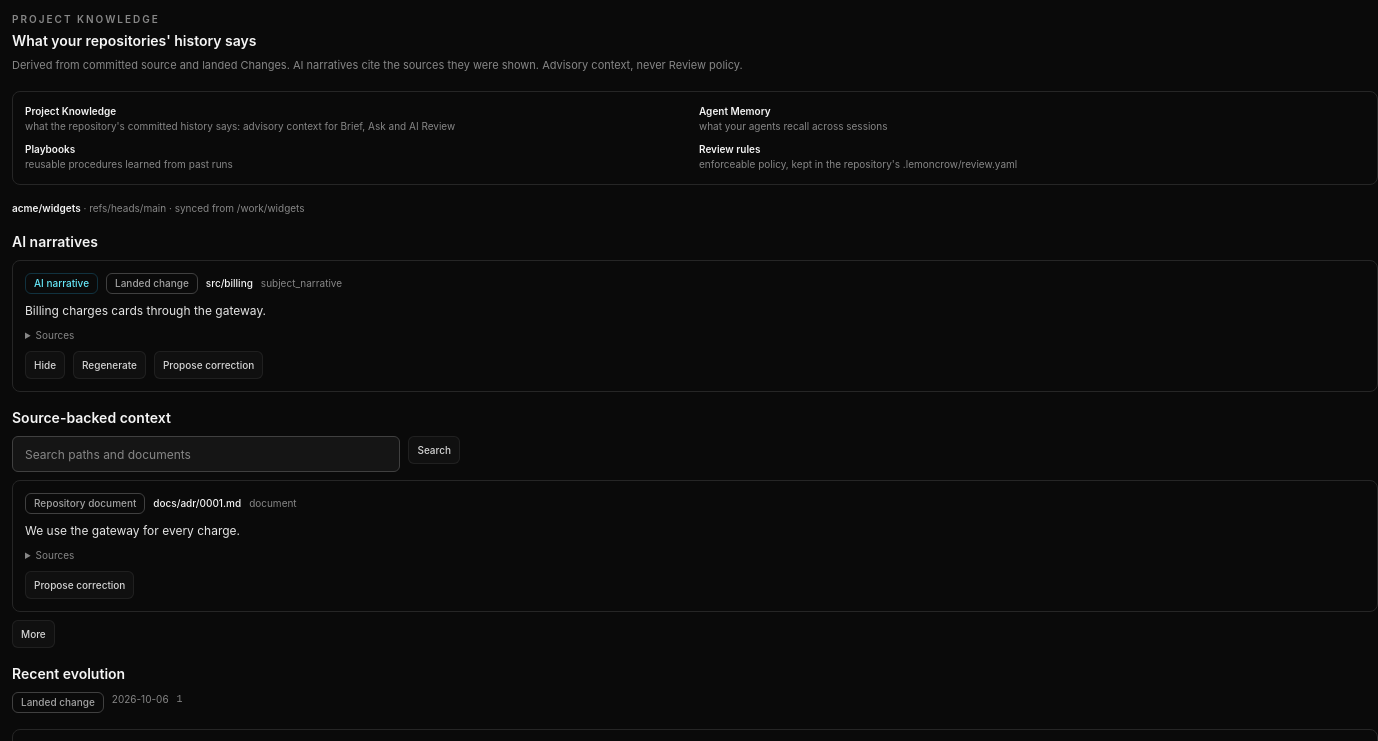
Test case: ProjectKnowledge › turns a correction into a patch and writes nothing itself
Expected: the text "Billing charges cards through the gateway." is shown, [25,303,266,318]
Click the button "Propose correction" below "src/billing" at (209, 365), box [154,351,263,379]
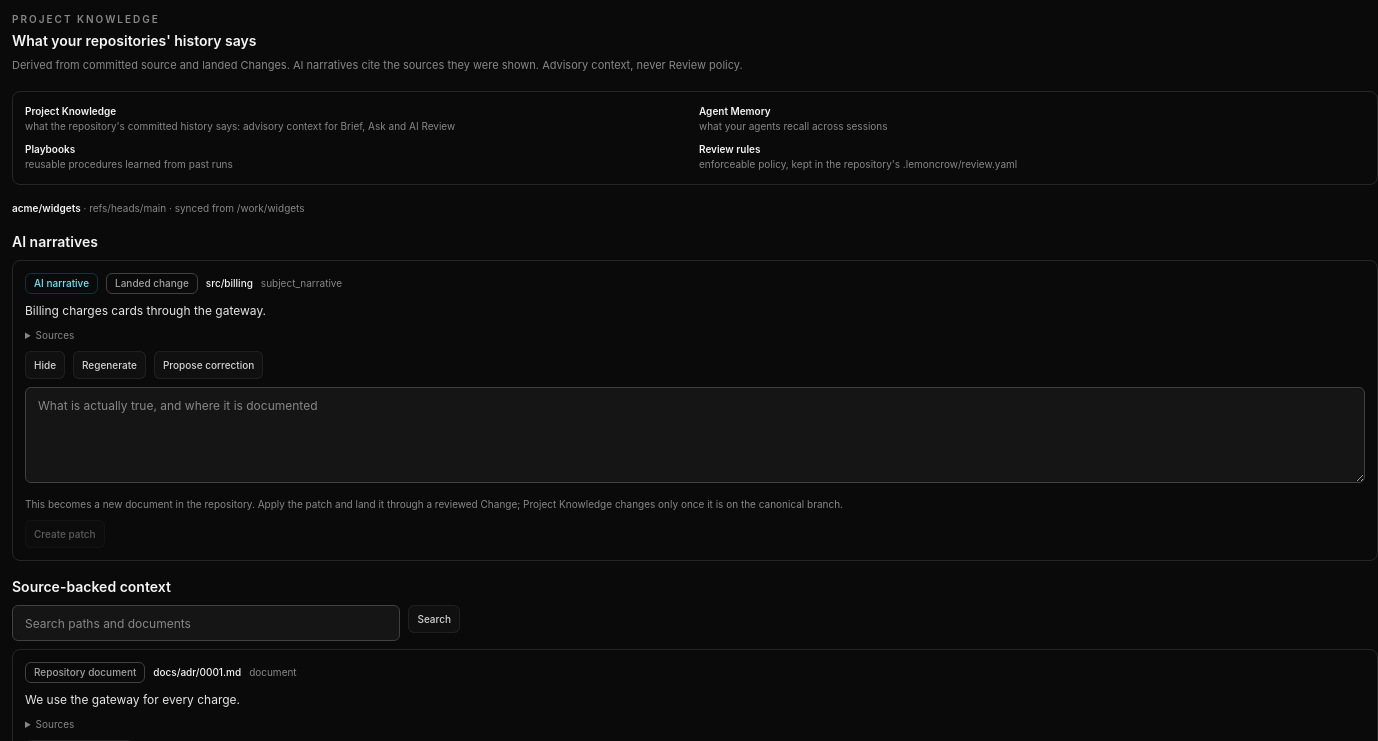
Expected: the button "Create patch" is disabled, [25,520,105,548]
Type "Refunds go through the ledger." into the text box named "Correction" at (695, 435), box [25,387,1365,483]
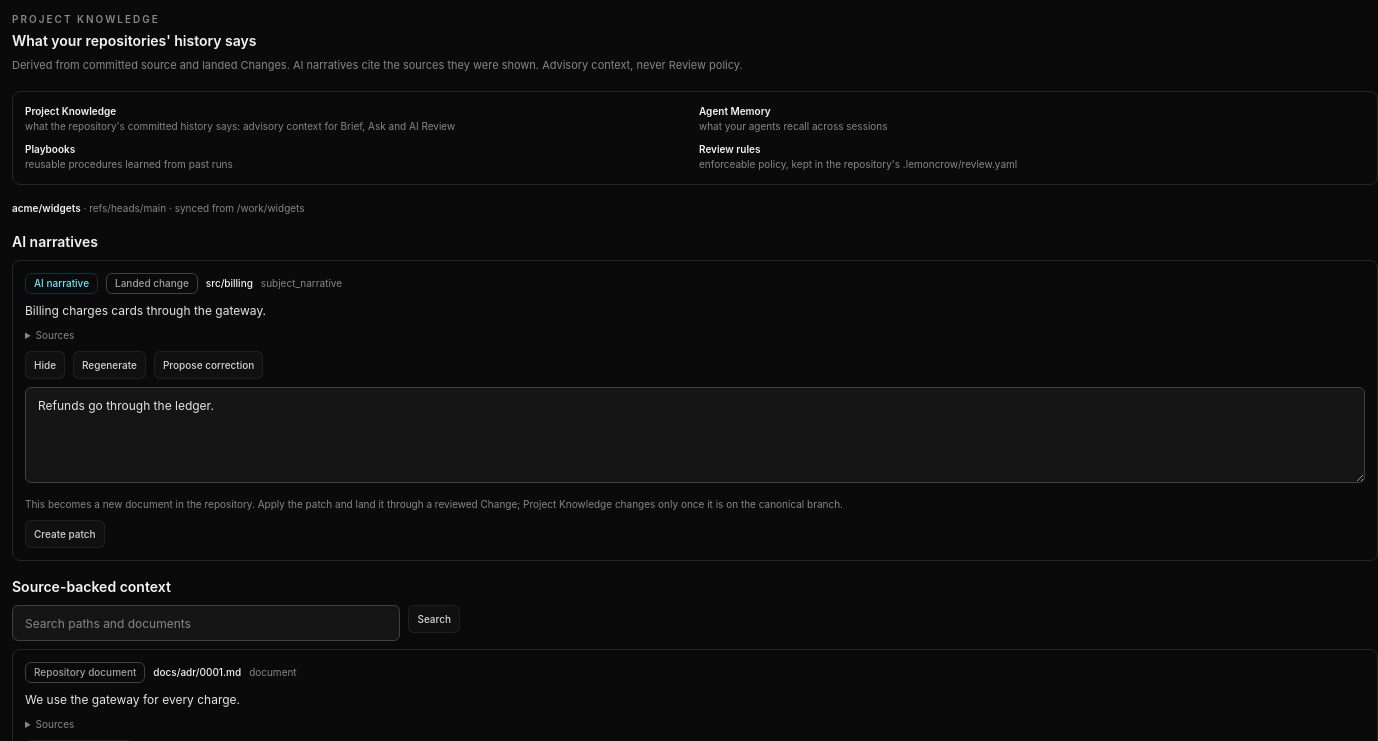
Click the button "Create patch" at (65, 534), box [25,520,105,548]
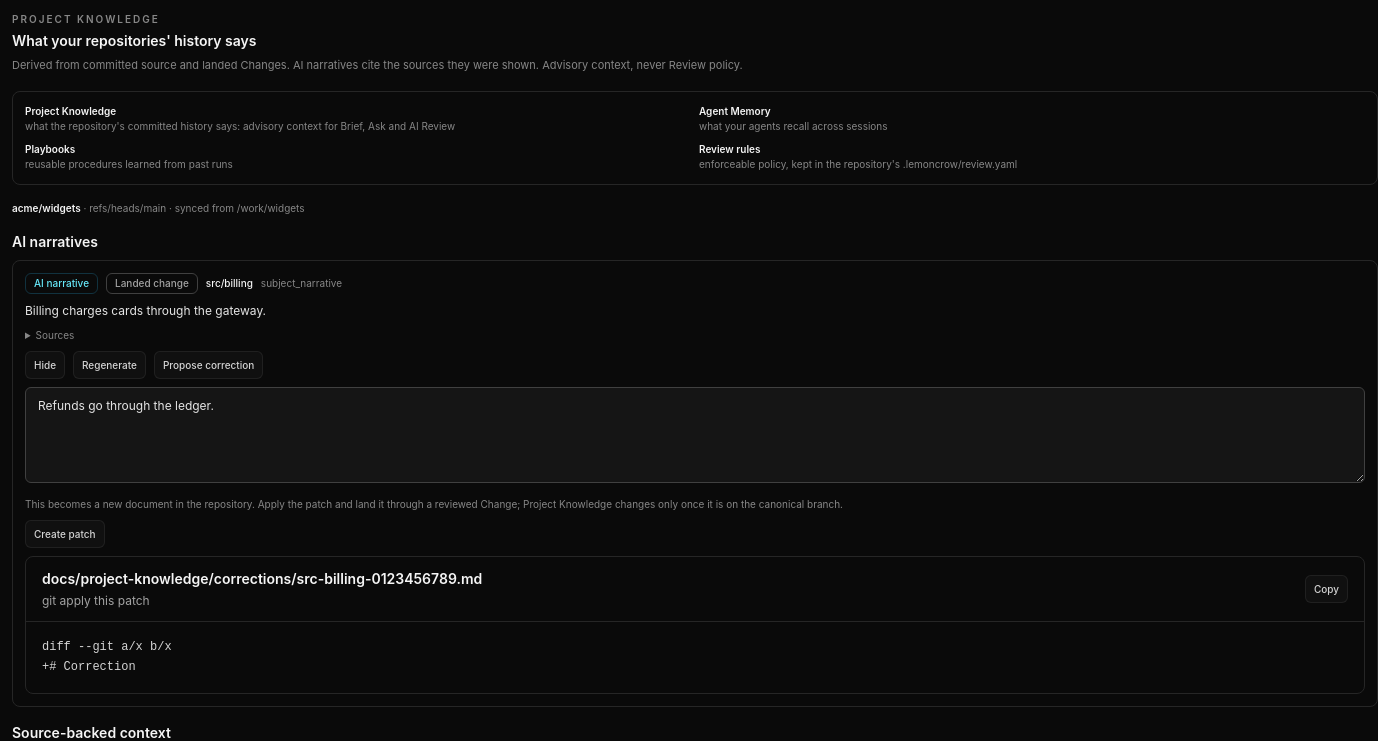
Expected: the text "docs/project-knowledge/corrections/src-billing-0123456789.md" is shown, [42,569,482,589]
